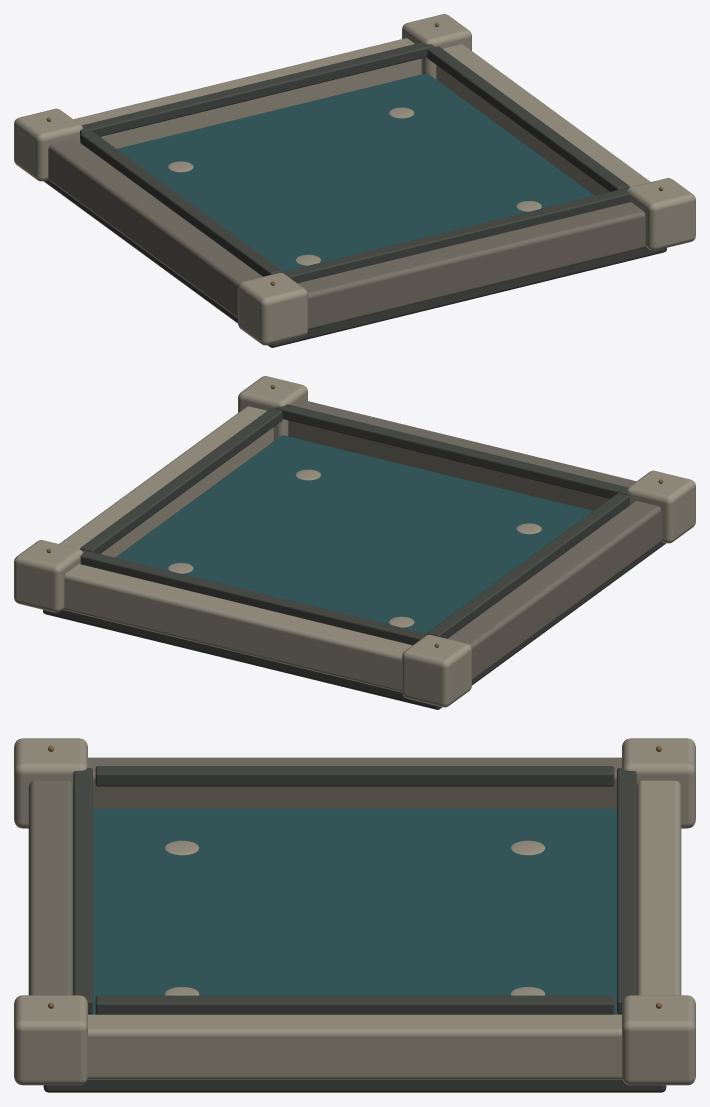
Rendered from detail_holy_pool.glb.
3 views of the same model, one above another, from view 1: azimuth 30°, elevation 25°; view 2: azimuth 150°, elevation 25°; view 3: azimuth 270°, elevation 25° (orthographic). The views are drawn at different scales.
Size of the model in its own units: 2.8 by 0.4 by 2.8.
